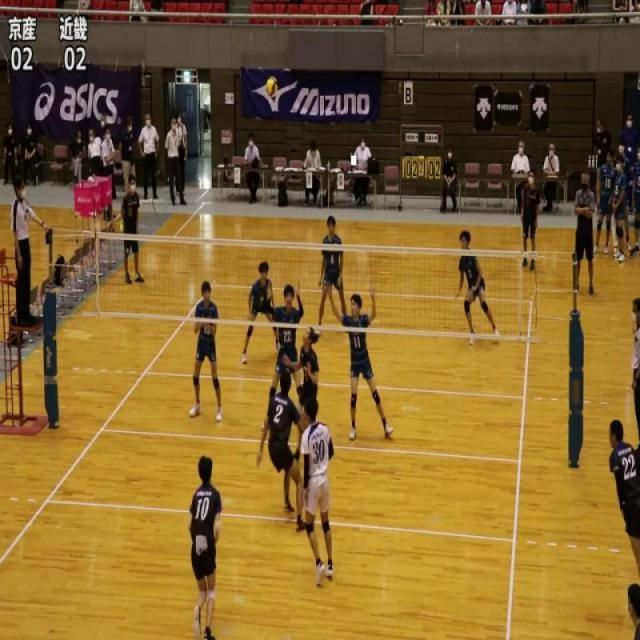volleyball: (266, 75, 278, 99)
